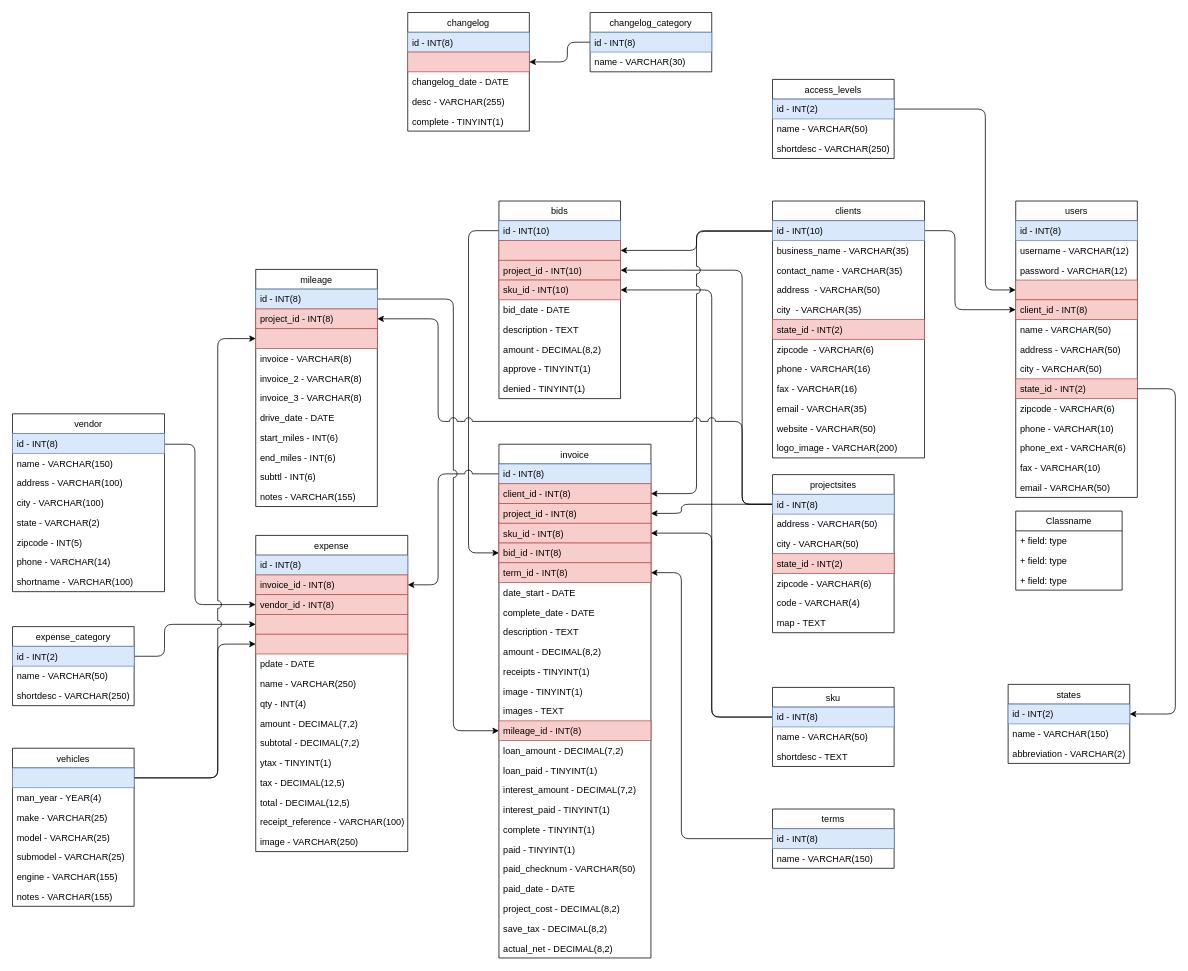
This 1188x971 diagram has some shape labels left out. The centre of each missing label's shape, as x and y in pixels:
"access_level_id - INT(2)" goes at point 1076,289.
"changelog_id - INT(8)" goes at point 468,61.
"client_id - INT(10)" goes at point 559,250.
"expense_category_id - INT(8)" goes at point 331,624.
"id - INT(4)" goes at point 73,777.
"vehicle_id - INT(4)" goes at point 316,338.
"vehicles_id - INT(8)" goes at point 331,643.
